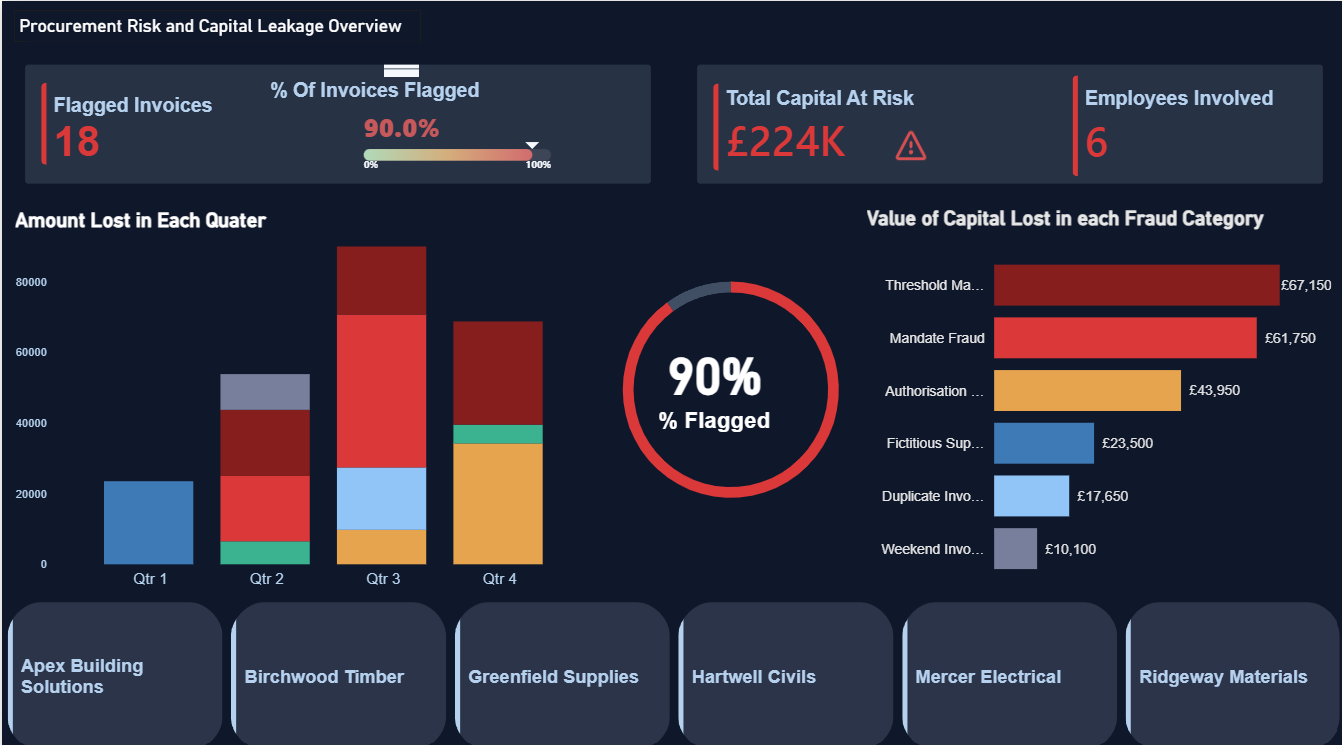

What the dashboard file says about the page in this screenshot:
{"tool":"powerbi","page":{"name":"Executive Summary","canvas":[1280,720],"ordinal":0},"visuals":[{"type":"clusteredBarChart","title":"Value of Capital Lost in each Fraud Category","fields":{"Category":["invoice_data.fraud_category","invoice_data.fraud_flag"],"Y":["Sum(invoice_data.amount_gbp)"]},"box":[818.8,196.2,452.5,371.2],"z":0},{"type":"cardVisual","title":"% SVG","fields":{"Data":["invoice_data.DynamicSpendGaugeSVG"]},"box":[246,63.4,368,108],"z":1000,"group":"g1"},{"type":"actionButton","title":"Warning!","box":[841.8,108.2,49.1,57.3],"z":1000},{"type":"cardVisual","title":"Flagged Invoices","fields":{"Data":["invoice_data.Flagged Invoices"]},"box":[0,38,640,157.1],"z":2000,"group":"g1"},{"type":"textbox","box":[12.1,0,526.9,37.9],"z":3000},{"type":"cardVisual","title":"Total Capital At Risk","fields":{"Data":["invoice_data.Total Value at Risk"]},"box":[640,38,640,157.1],"z":3000,"group":"g1"},{"type":"lineStackedColumnComboChart","title":"Amount Lost in Each Quater","fields":{"Y":["Sum(invoice_data.amount_gbp)"],"Series":["invoice_data.fraud_category"],"Category":["invoice_data.invoice_date.Variation.Date Hierarchy.Year","invoice_data.invoice_date.Variation.Date Hierarchy.Quarter"]},"box":[11.2,177.5,551.2,390],"z":4000},{"type":"group","id":"g1","title":"Group 2","box":[0,38,1280,157.1],"z":5000},{"type":"donutChart","title":"Flagged Invoices VS. Clean Invoices","fields":{"Y":["invoice_data.Flagged Invoices","invoice_data.Clean Invoices"]},"box":[560,175,267.5,391.2],"z":5000,"group":"g2"},{"type":"cardVisual","title":"Implicated Employees","fields":{"Data":["employee_limits.Employees Involved Fraction"]},"box":[1004,52,250,126],"z":5004,"group":"g1"},{"type":"actionButton","box":[1004,64,250,108],"z":6000},{"type":"cardVisual","fields":{"Data":["employee_limits.% Of Flagged Invoices"]},"box":[560,276.2,237.5,190],"z":6000,"group":"g2"},{"type":"advancedSlicerVisual","fields":{"Values":["invoice_data.supplier_name"]},"box":[0,568,1280,152],"z":7000,"group":"g2"},{"type":"group","id":"g2","title":"Group 1","box":[0,175,1280,545],"z":7001}]}

Visuals, with their boxes in screenshot pixels (x1, y1, x2, y2), scaled from the page's 1280x720 canvas onto the 1342x745 screenshot:
"Value of Capital Lost in each Fraud Category" clusteredBarChart: 858, 203, 1333, 587
"% SVG" cardVisual: 258, 66, 644, 177
"Warning!" actionButton: 883, 112, 934, 171
"Flagged Invoices" cardVisual: 0, 39, 671, 202
textbox: 13, 0, 565, 39
"Total Capital At Risk" cardVisual: 671, 39, 1341, 202
"Amount Lost in Each Quater" lineStackedColumnComboChart: 12, 184, 590, 587
"Group 2" group: 0, 39, 1341, 202
"Flagged Invoices VS. Clean Invoices" donutChart: 587, 181, 868, 586
"Implicated Employees" cardVisual: 1053, 54, 1315, 184
actionButton: 1053, 66, 1315, 178
cardVisual - employee_limits.% Of Flagged Invoices: 587, 286, 836, 482
advancedSlicerVisual - invoice_data.supplier_name: 0, 588, 1341, 744
"Group 1" group: 0, 181, 1341, 744
